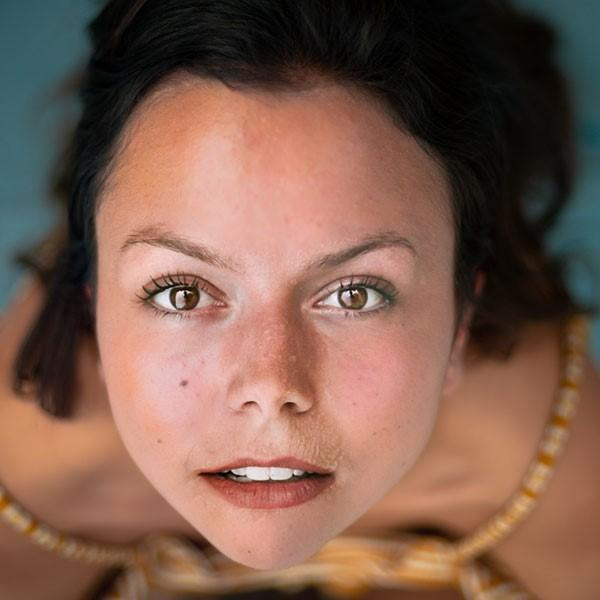Eyes: (131, 267, 239, 327), (294, 269, 406, 324)
